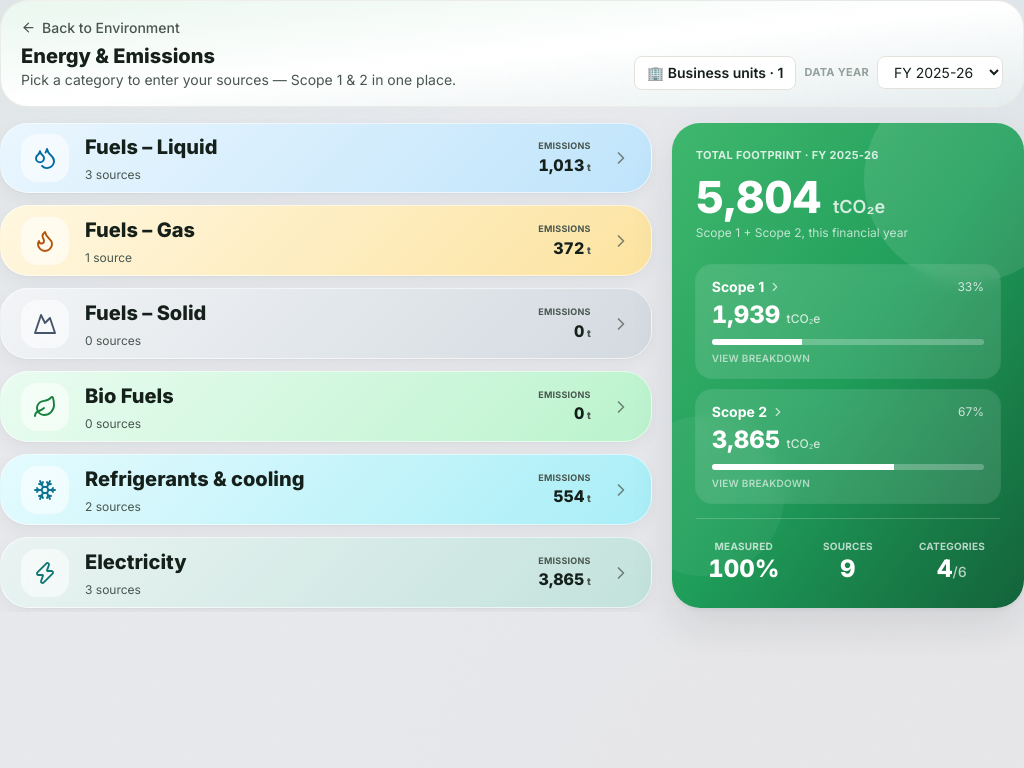
Test case: ActivityDataTab — SourceListScreen (Task 1) › the always-visible central pill toggles between 'In total' and 'Excluded'
This screenshot has width=1024, height=768.
Click the text "Fuels – Liquid": click(151, 147) [85,135,218,159]
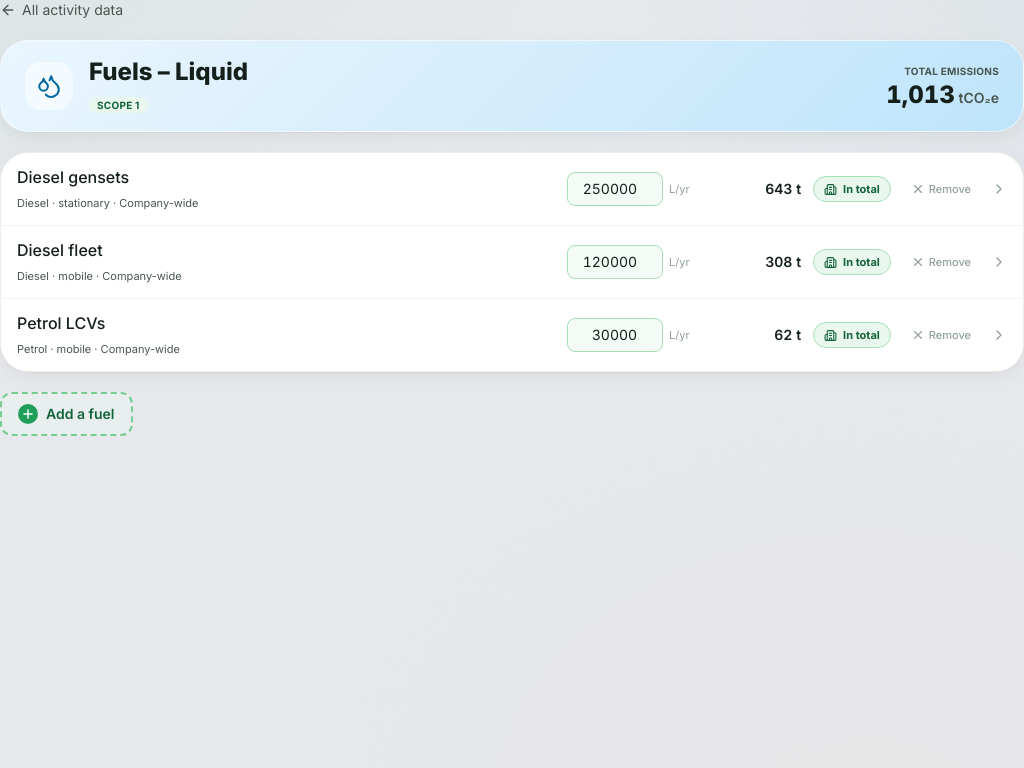
Note: Add a fuel that is not already in the seed, so its pill aria-label is unique
Click the button "Add a fuel": click(66, 414) [0,392,132,436]
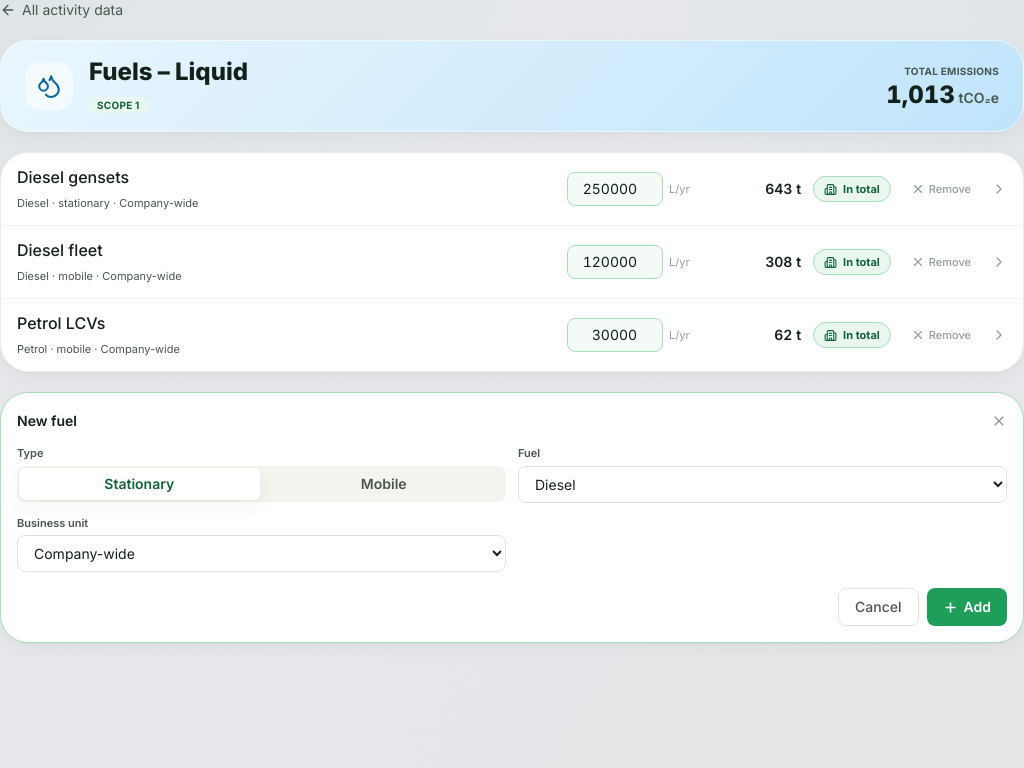
Select "Kerosene / Burning Oil" in the dropdown labelled "Fuel": (762, 484) [518,466,1007,502]
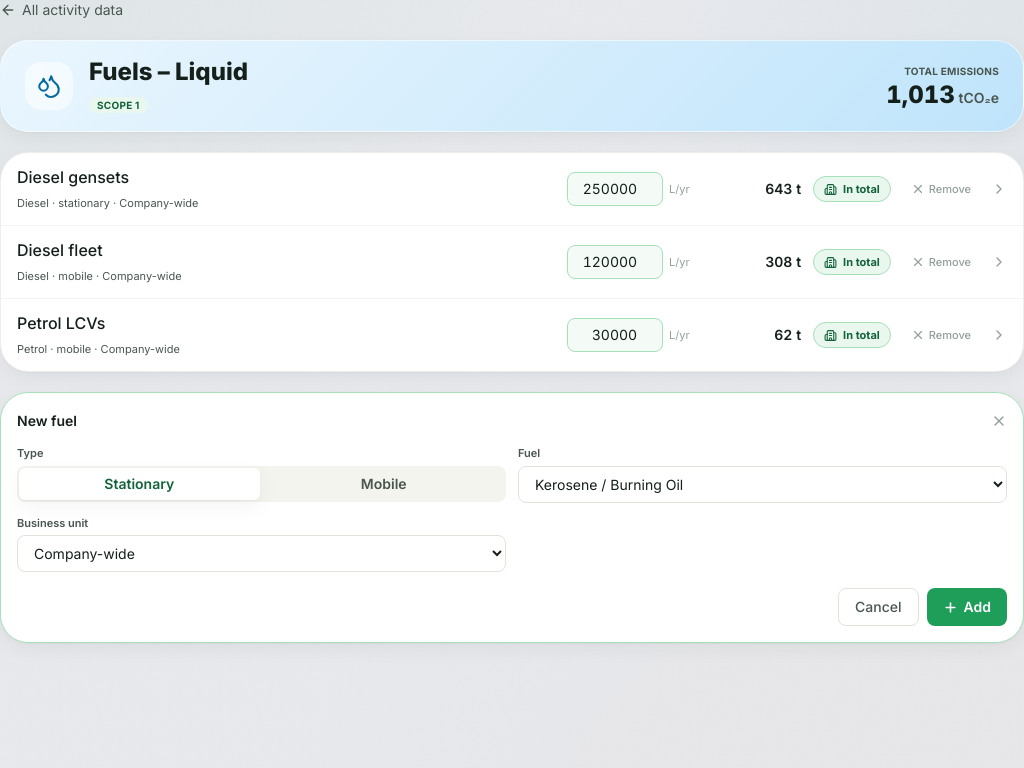
Click the button "Add": click(967, 607) [926,588,1007,626]
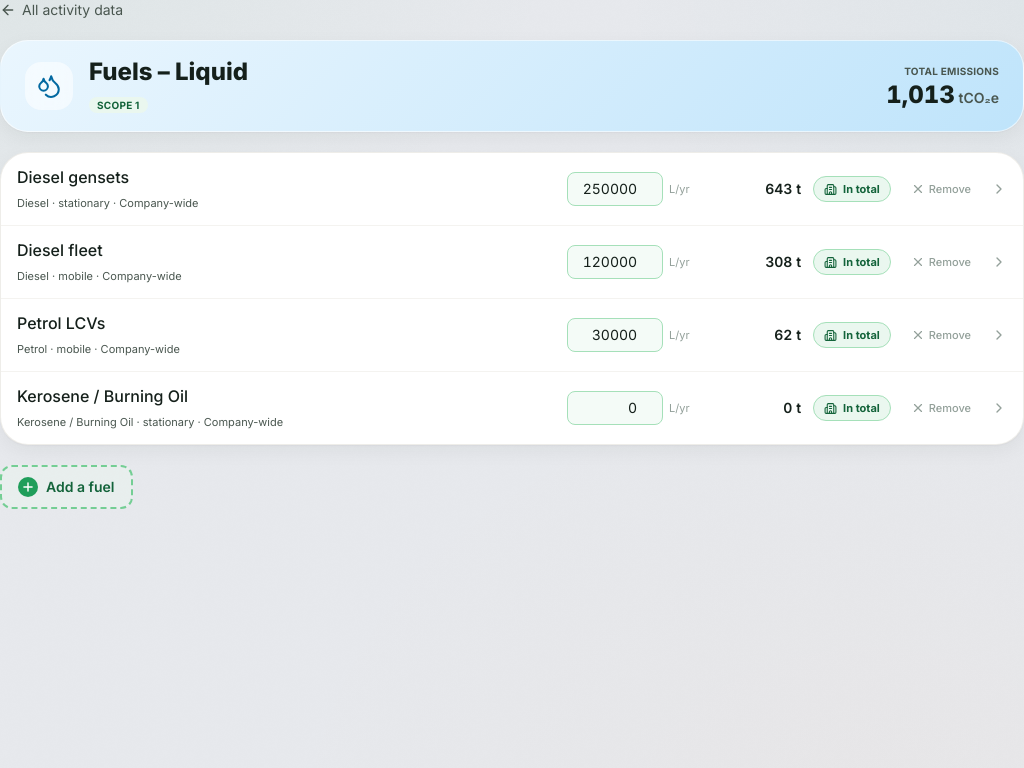
Now the button "In total" in the row of "643" is shown, box [813,176,891,202]
Note: Toggle exclusion via this source's always-visible pill (aria-label carries its name)
Click the 4th button "In total": click(852, 408) [813,395,891,421]
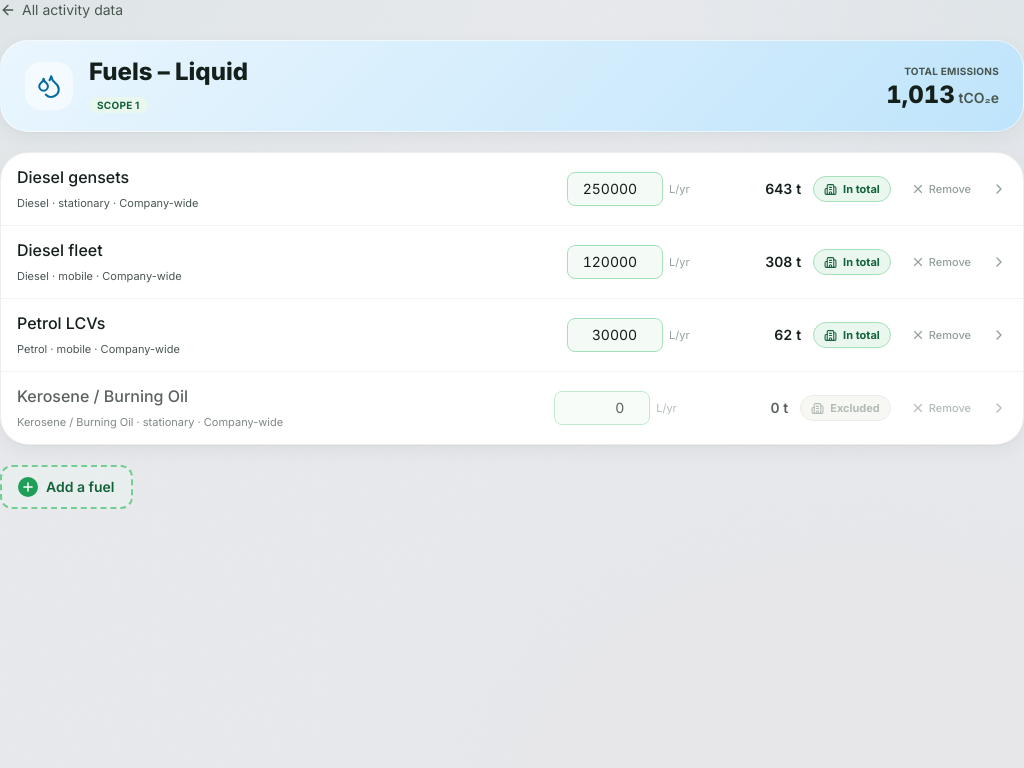
Now the button "Excluded" is shown, box [800,395,891,421]
